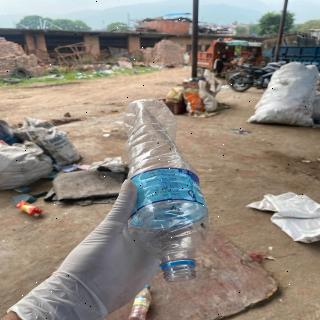Plastic-bottle: (121, 96, 209, 285), (129, 284, 157, 320)
